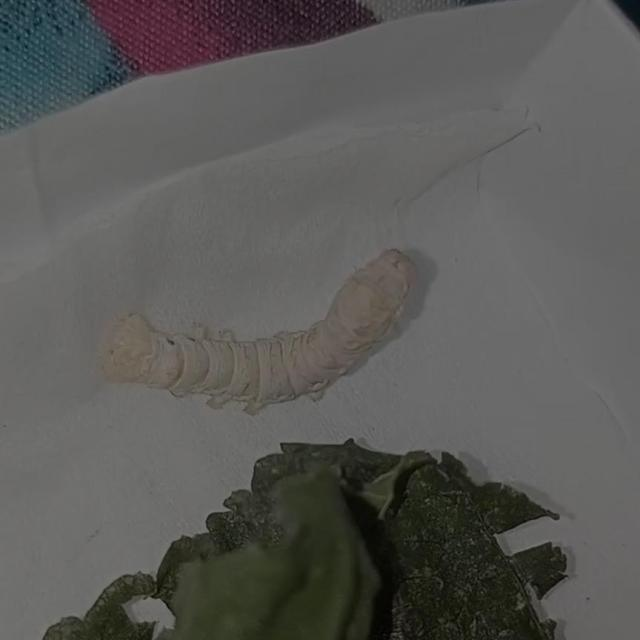Healthy: (95, 237, 430, 415)
